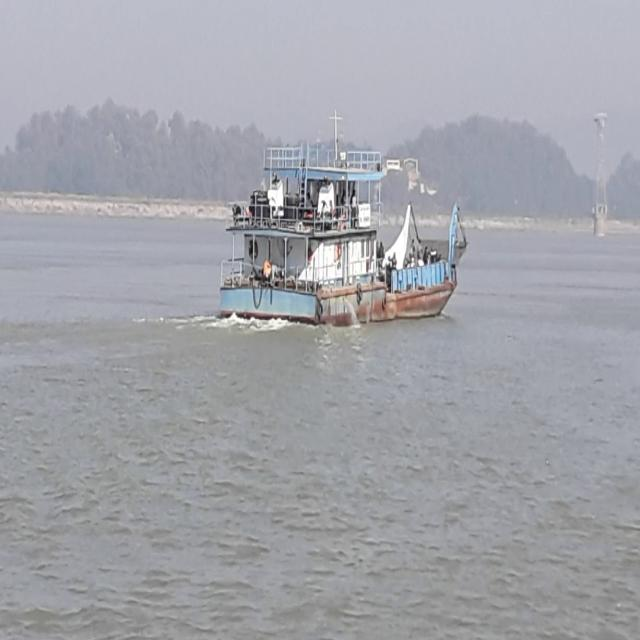fishing boat: (216, 126, 466, 327)
